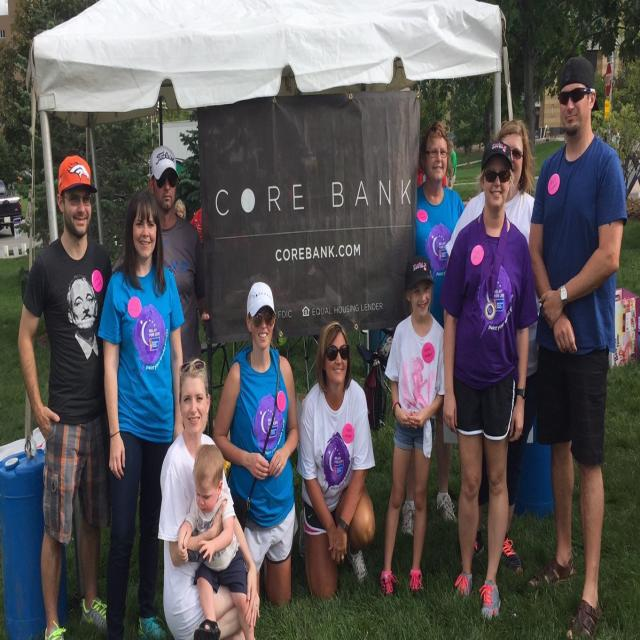body: (527, 53, 629, 640), (438, 138, 539, 631), (16, 151, 112, 640), (444, 119, 541, 577), (95, 182, 187, 640), (211, 276, 300, 618), (157, 358, 261, 640), (400, 118, 466, 538), (378, 245, 453, 611), (293, 317, 378, 607), (176, 442, 258, 640), (146, 144, 210, 362), (167, 192, 208, 242), (596, 115, 626, 163), (416, 164, 450, 190), (444, 138, 458, 190)
